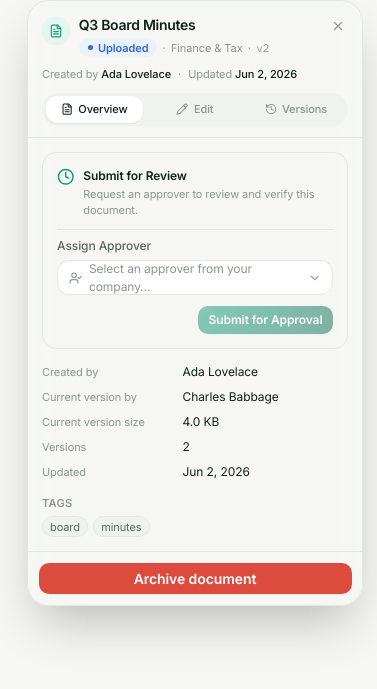
Test: GraphDocumentInspector › disables editing inputs and new version dropzone when document is locked (not editable)
Step 1. Click the tab with test id "inspector-tab-edit" → [195, 109], box [146,96,244,122]
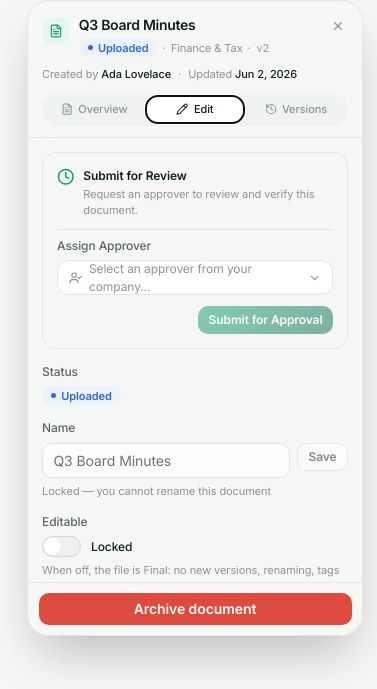
expect the field showing "Q3 Board Minutes" is disabled: met, box [42,442,290,478]
Step 2. Click the tab "Versions" → [296, 109], box [247,96,344,122]
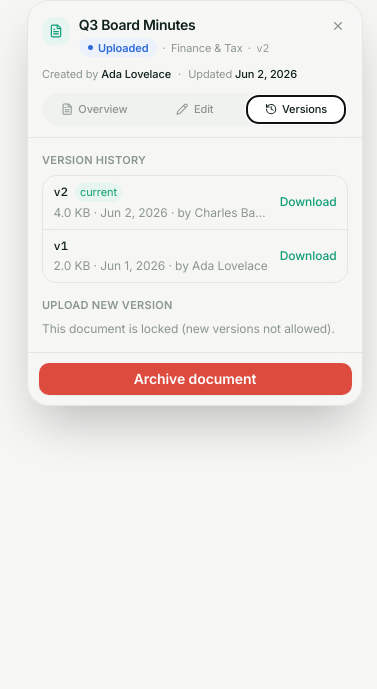
expect the text "This document is locked (new versions not allowed)." is shown: met, box [42,320,348,338]
